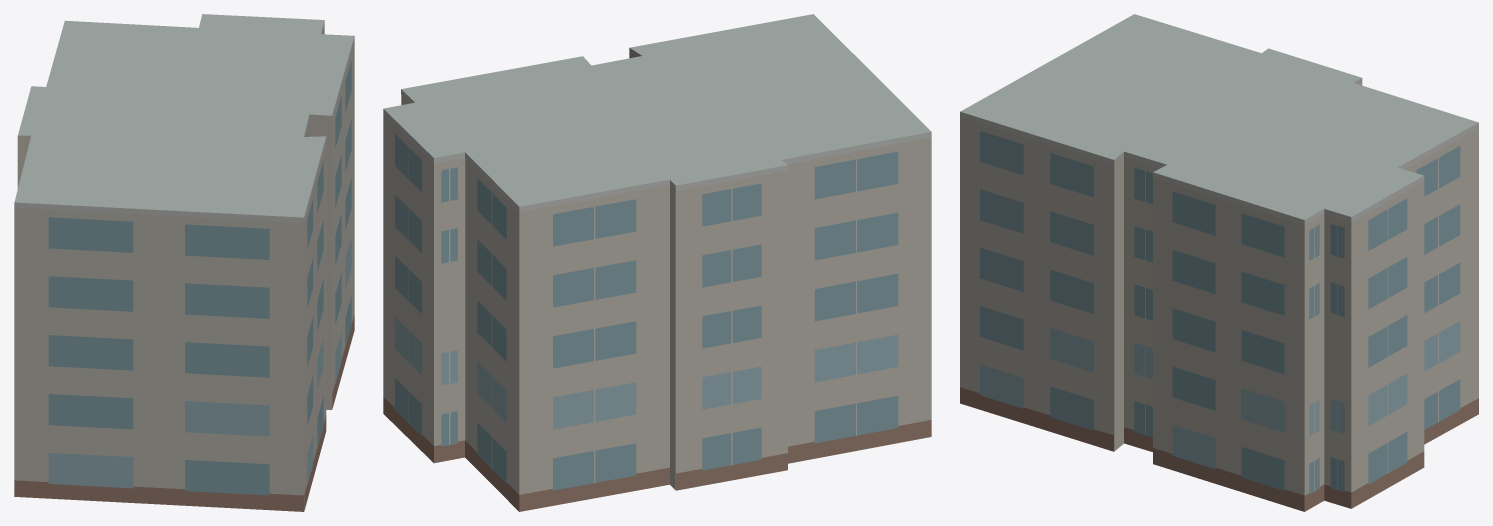
The model's file is survey-upis-32657186.glb.
3 views of the same model, side by side, from view 1: azimuth 30°, elevation 25°; view 2: azimuth 150°, elevation 25°; view 3: azimuth 270°, elevation 25° (orthographic). The views are drawn at different scales.
Visible parts, largest first — view 1: survey-upis-32657186.tmp; view 2: survey-upis-32657186.tmp; view 3: survey-upis-32657186.tmp.
Boxes of the visible parts, bbox=[...] form: survey-upis-32657186.tmp: bbox=[14, 14, 354, 511]; survey-upis-32657186.tmp: bbox=[383, 14, 931, 511]; survey-upis-32657186.tmp: bbox=[960, 14, 1478, 511].
Bounding box in the file's own units: 20.46 × 13.5 × 21.76.
